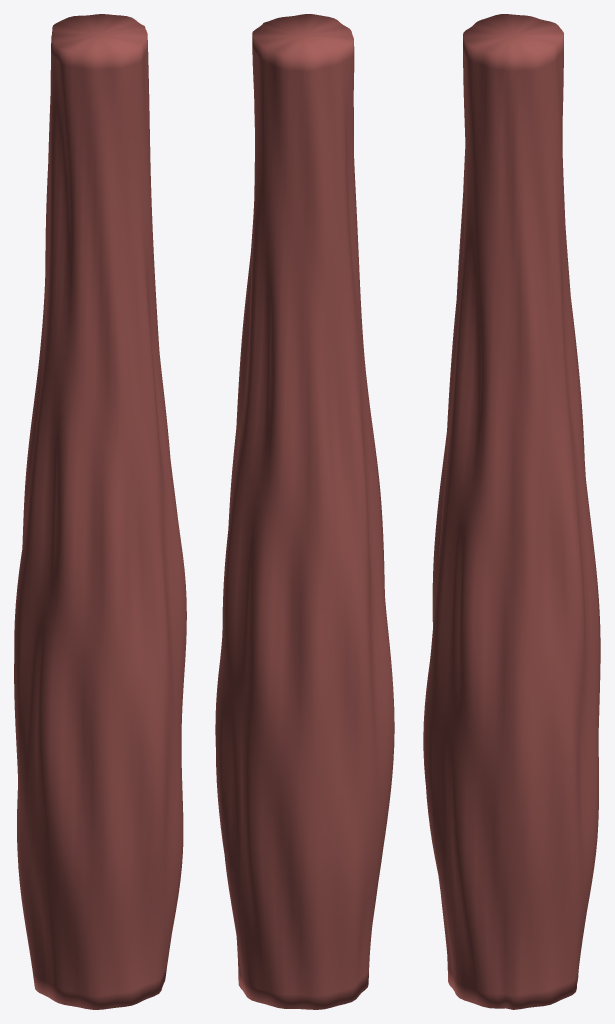
Rendered from sleeve-upper.glb.
3 renders of one model, left to right at view 1: azimuth 30°, elevation 25°; view 2: azimuth 150°, elevation 25°; view 3: azimuth 270°, elevation 25°, orthographic.
Visible parts, largest first — view 1: Fitted sleeve; view 2: Fitted sleeve; view 3: Fitted sleeve.
Boxes of the visible parts, x1,y1,x2,y2 form: Fitted sleeve: [14, 14, 186, 1009]; Fitted sleeve: [215, 14, 394, 1009]; Fitted sleeve: [423, 14, 600, 1009].
Size of the model in its own units: 0.1677 by 1 by 0.1697.
